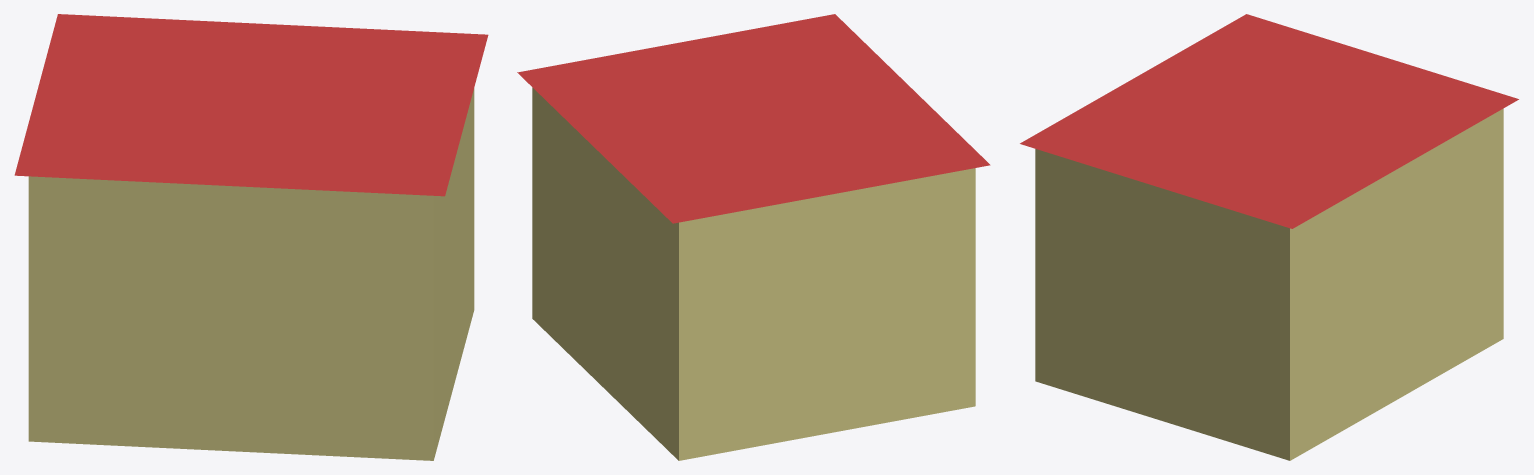
3 renders of one model, left to right at view 1: azimuth 30°, elevation 25°; view 2: azimuth 150°, elevation 25°; view 3: azimuth 270°, elevation 25°, orthographic. The views are drawn at different scales.
Bounding box in the file's own units: 11.22 × 11.03 × 5.8.
